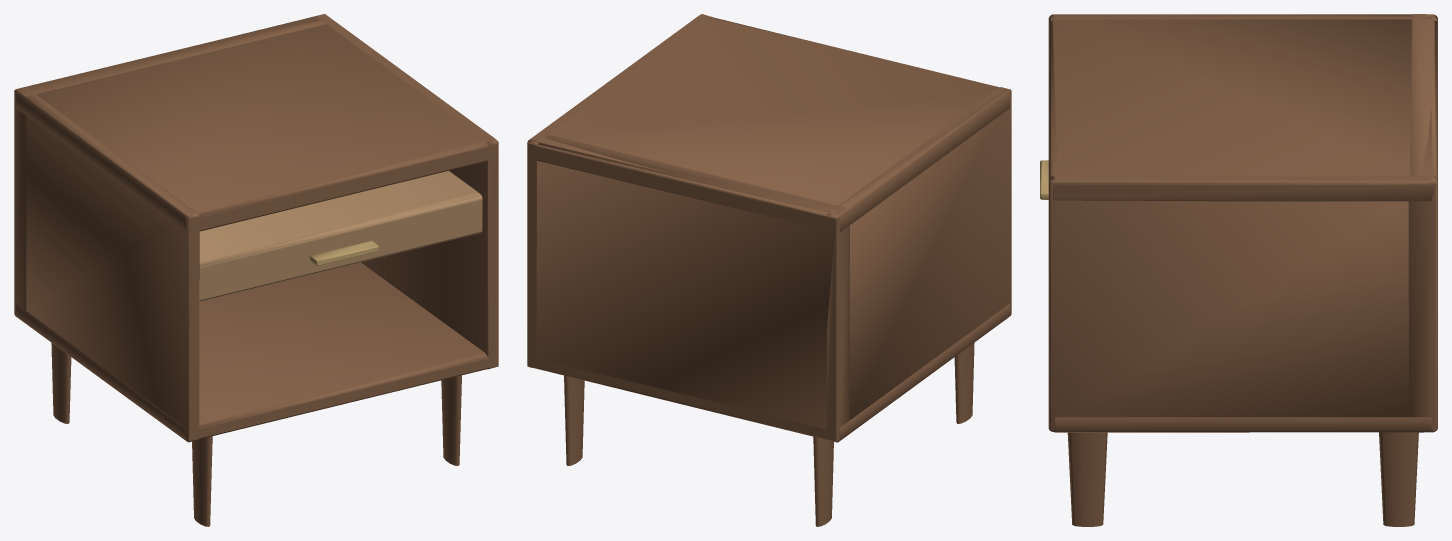
File: cabinet-3-2.lod.glb
3 views of the same model, side by side, from view 1: azimuth 30°, elevation 25°; view 2: azimuth 150°, elevation 25°; view 3: azimuth 270°, elevation 25° (orthographic). The views are drawn at different scales.
Parts seen in each view (by area): view 1: part, upholstery (×2); view 2: part; view 3: part.
Boxes of the visible parts, x1,y1,x2,y2 form: part: (14, 14, 498, 526); upholstery (×2): (199, 171, 482, 301); part: (527, 14, 1011, 526); part: (1048, 14, 1437, 526).
Bounding box in the file's own units: 1 × 1 × 1.
